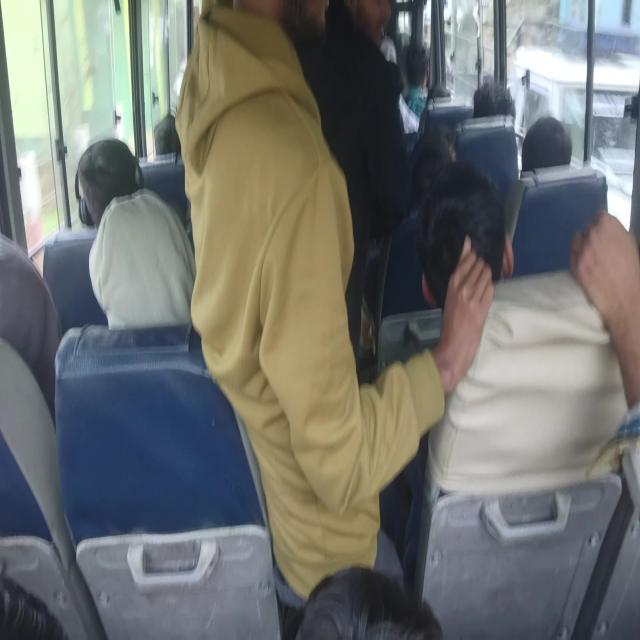person: (190, 0, 367, 468), (420, 185, 601, 370), (70, 151, 206, 331), (289, 538, 448, 640), (318, 0, 402, 142), (68, 138, 145, 250), (0, 263, 59, 382), (522, 106, 576, 164), (418, 140, 466, 199), (417, 80, 455, 126), (468, 64, 498, 115), (406, 41, 430, 72)
